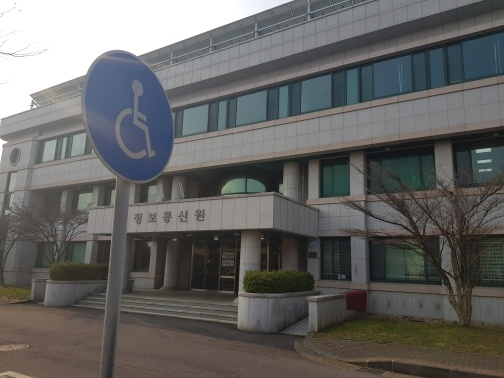Information Telecommunication Center: (131, 181, 366, 316), (132, 197, 227, 235)
